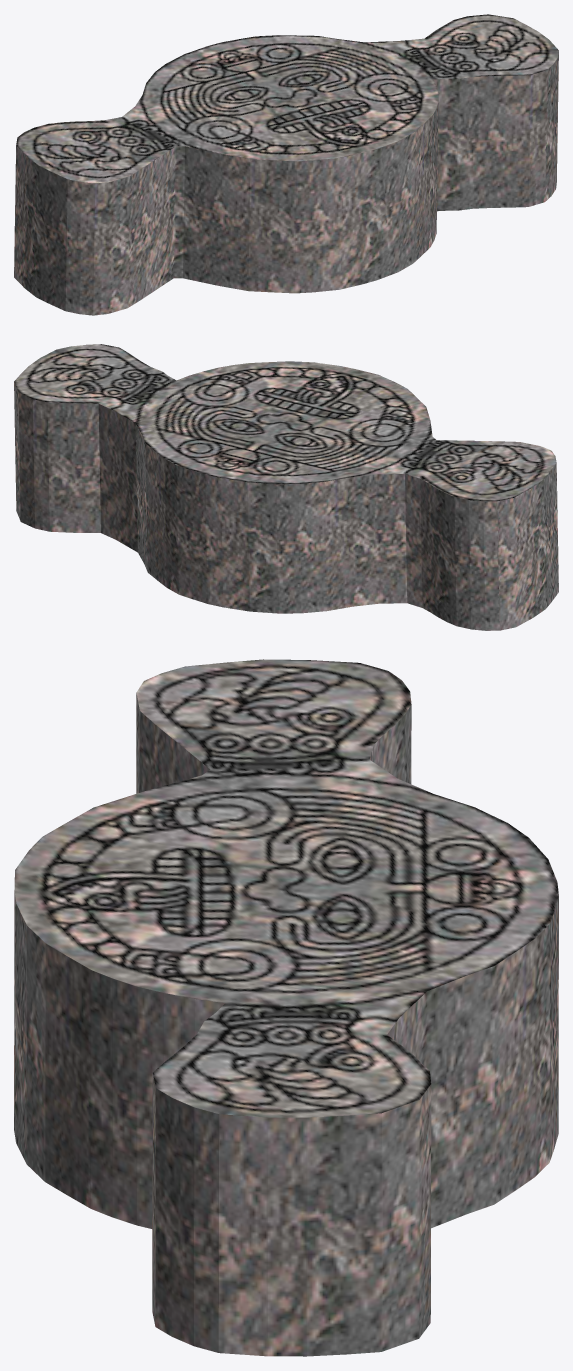
Rendered from aro1.fbx.
3 views of the same model, one above another, from view 1: azimuth 30°, elevation 25°; view 2: azimuth 150°, elevation 25°; view 3: azimuth 270°, elevation 25° (orthographic). The views are drawn at different scales.
Parts seen in each view (by area): view 1: Plano.001; view 2: Plano.001; view 3: Plano.001.
Part boxes in pixels (x1,y1,x2,y2): Plano.001: (14,14,558,315); Plano.001: (14,344,558,630); Plano.001: (14,659,558,1356).
Size of the model in its own units: 116 by 28.21 by 57.84.
